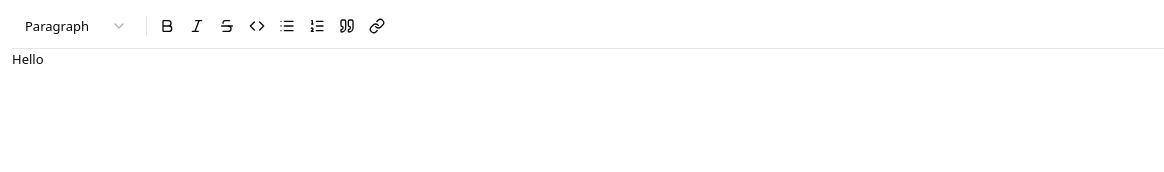
Test: names each shortcut for the platform
Hover over the button named "Bold" at (167,26), box [153,12,181,40]
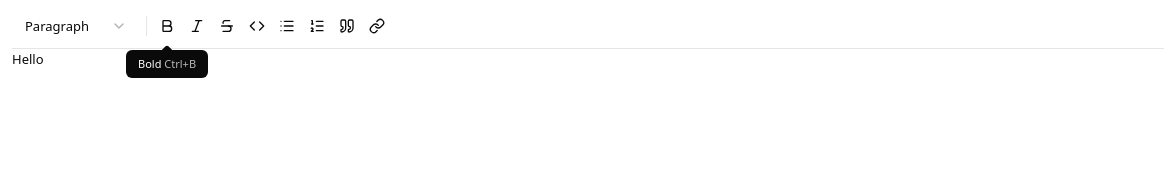
Now the tooltip reads "Bold Ctrl+B", box [126,50,208,78]
